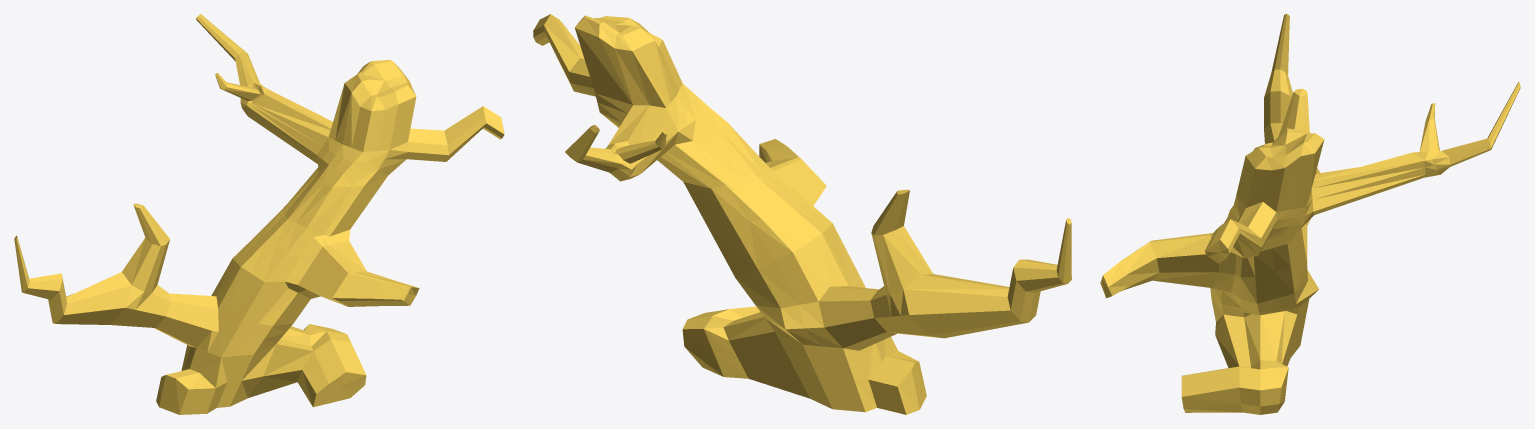
Rendered from кустик.fbx.
3 renders of one model, left to right at view 1: azimuth 30°, elevation 25°; view 2: azimuth 150°, elevation 25°; view 3: azimuth 270°, elevation 25°, orthographic. The views are drawn at different scales.
Visible parts, largest first — view 1: Planta_seca; view 2: Planta_seca; view 3: Planta_seca.
Part boxes in pixels (<box>): Planta_seca: <box>14,14,504,414</box>; Planta_seca: <box>533,14,1071,414</box>; Planta_seca: <box>1100,14,1520,414</box>.
Size of the model in its own units: 125 by 72.83 by 84.8.
